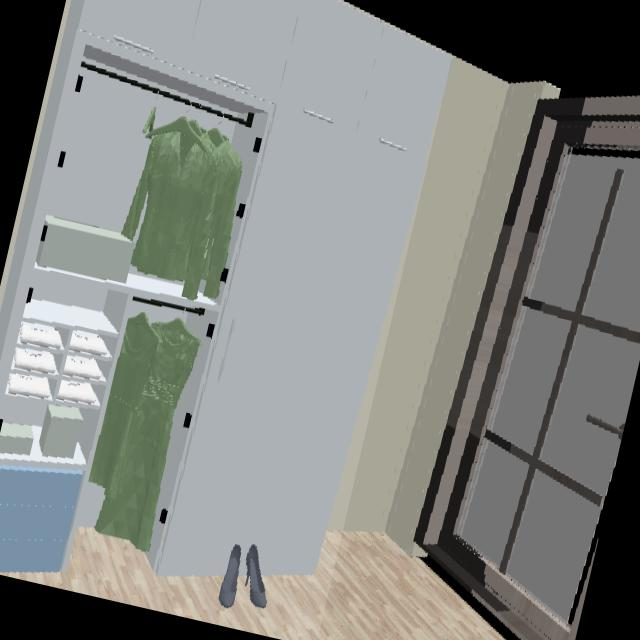wardrobe: (0, 0, 451, 577)
